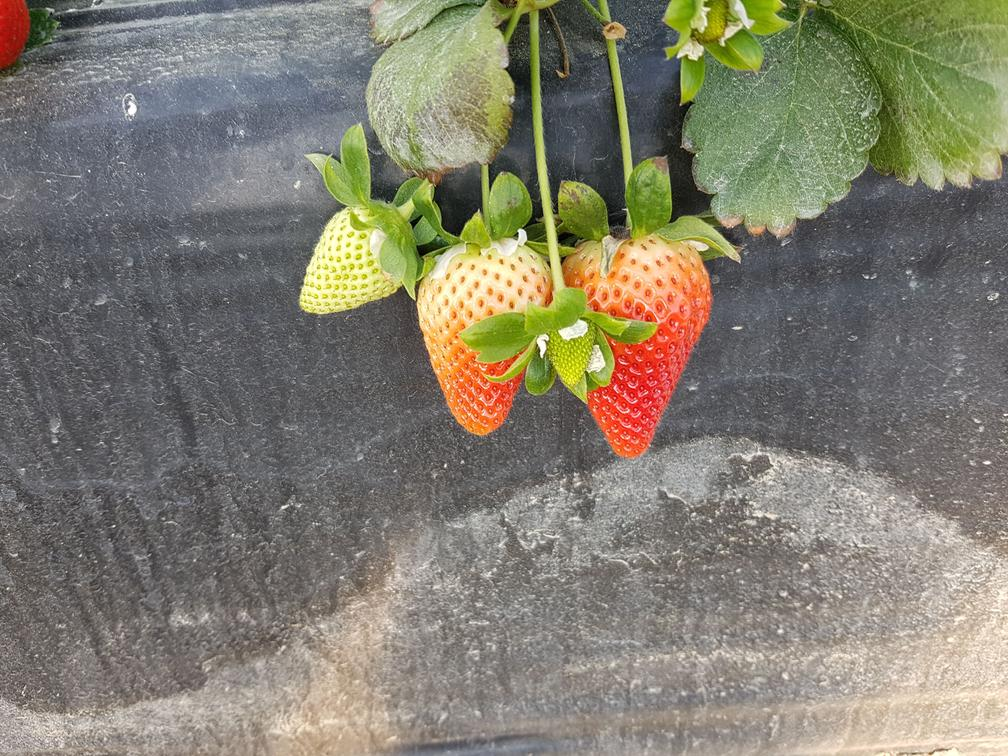Ripe: (580, 235, 720, 461), (424, 244, 538, 434)
Unripe: (294, 201, 419, 318), (549, 324, 603, 387)
